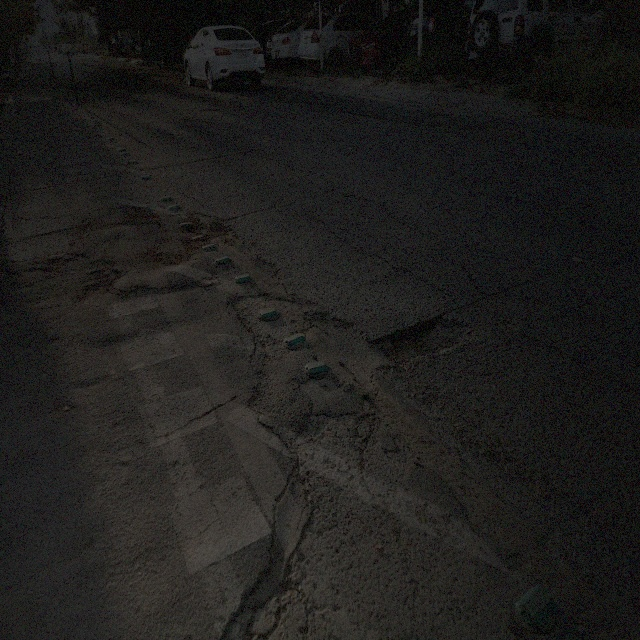pothole: (366, 305, 475, 367), (80, 266, 124, 294), (211, 221, 241, 247), (51, 257, 72, 266)
